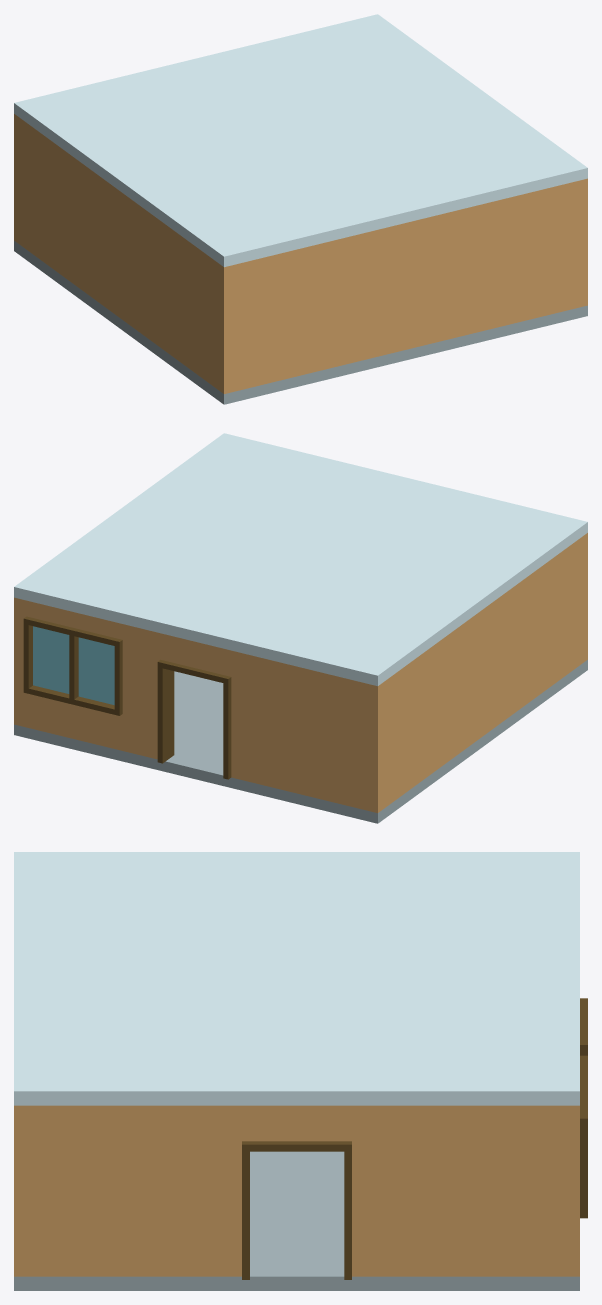
File: Test3x3room.fbx
3 views of the same model, one above another, from view 1: azimuth 30°, elevation 25°; view 2: azimuth 150°, elevation 25°; view 3: azimuth 270°, elevation 25° (orthographic). The views are drawn at different scales.
Visible parts, largest first — view 1: wall.007, wall.004, wall.010, roof.007, wall.002, roof.008, roof.009, roof.004, roof.005, wall, wall.001, roof.001 (+8 smaller); view 2: wall.008, roof.005, wall, roof.006, roof.002, roof.004, roof.007, wall.002, wall.001, wall.005, roof.001, roof.009 (+12 smaller); view 3: wall.003, wall.006, roof.001, roof.002, roof.009, wall.011, roof.003, roof.004, roof.005, roof.006, roof.007, roof.008 (+8 smaller).
Boxes of the visible parts, x1,y1,x2,y2 form: wall.007: (345, 208, 466, 364); wall.004: (466, 178, 587, 334); wall.010: (234, 238, 345, 391); roof.007: (154, 176, 345, 267); wall.002: (154, 216, 234, 393); roof.008: (276, 146, 466, 237); roof.009: (397, 116, 587, 207); roof.004: (84, 124, 274, 215); roof.005: (14, 73, 204, 164); wall: (14, 114, 83, 291); wall.001: (84, 165, 153, 342); roof.001: (327, 65, 517, 145); wall.008: (256, 657, 367, 810); roof.005: (256, 595, 447, 686); wall: (367, 635, 447, 812); roof.006: (135, 565, 325, 656); roof.002: (14, 535, 204, 626); roof.004: (327, 543, 517, 634); roof.007: (397, 492, 587, 583); wall.002: (518, 533, 587, 710); wall.001: (448, 584, 517, 761); wall.005: (14, 597, 135, 753); roof.001: (84, 484, 274, 564); roof.009: (154, 433, 344, 513); wall.003: (29, 1105, 202, 1276); wall.006: (391, 1105, 564, 1276); roof.001: (202, 1011, 391, 1105); roof.002: (391, 1011, 579, 1105); roof.009: (14, 1011, 202, 1105); wall.011: (202, 1105, 391, 1276); roof.003: (202, 932, 391, 1011); roof.004: (202, 852, 391, 931); roof.005: (391, 852, 579, 931); roof.006: (391, 932, 579, 1011); roof.007: (14, 852, 202, 931); roof.008: (14, 932, 202, 1011).
Size of the model in its own units: 912 by 350 by 913.
